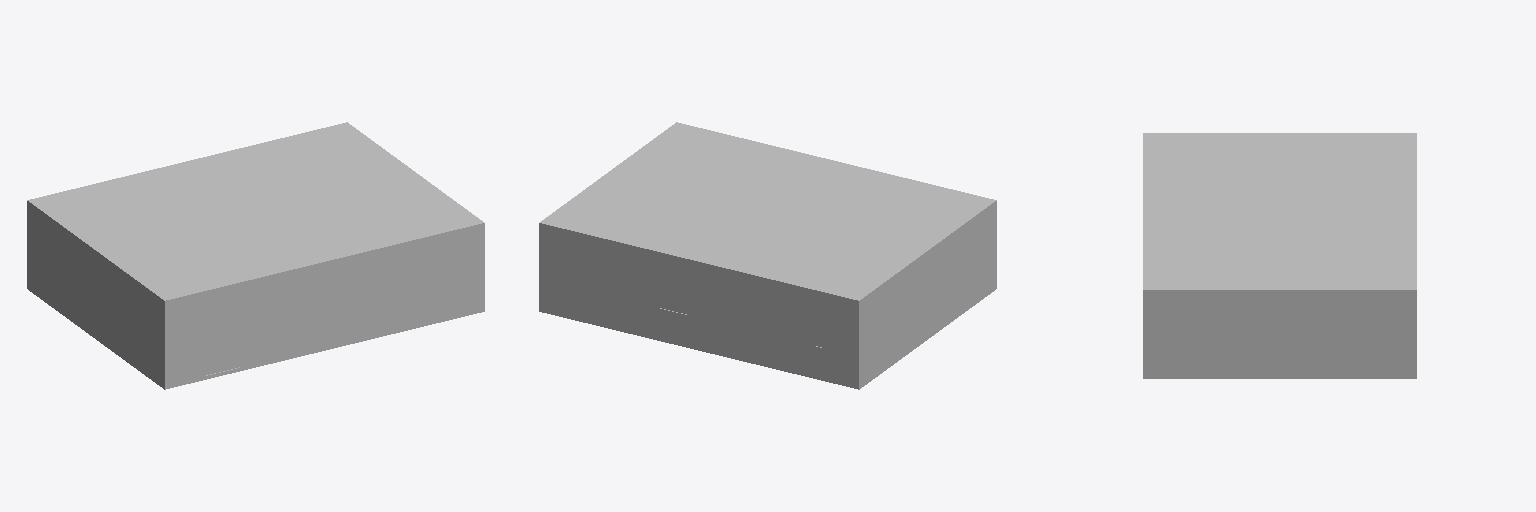
File: room.obj
The picture shows the model from 3 angles: view 1: azimuth 30°, elevation 25°; view 2: azimuth 150°, elevation 25°; view 3: azimuth 270°, elevation 25°; orthographic projection.
Parts seen in each view (by area): view 1: Room_Куб; view 2: Room_Куб; view 3: Room_Куб.
Part boxes in pixels (x1,y1,x2,y2): Room_Куб: (27,122,484,389); Room_Куб: (539,122,996,389); Room_Куб: (1143,133,1416,378).
Size of the model in its own units: 56.53 by 15 by 42.05.